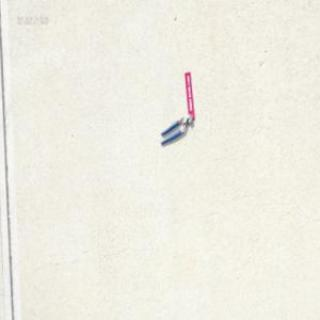LuggageTagtrack_idkeyframe: (184, 70, 194, 119)
Pliertrack_idkeyframe: (159, 113, 192, 145)
